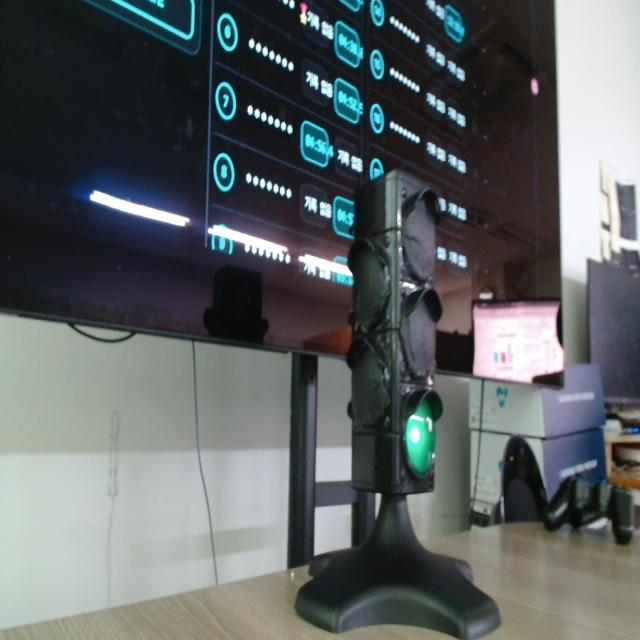green_light: (406, 399, 435, 476)
